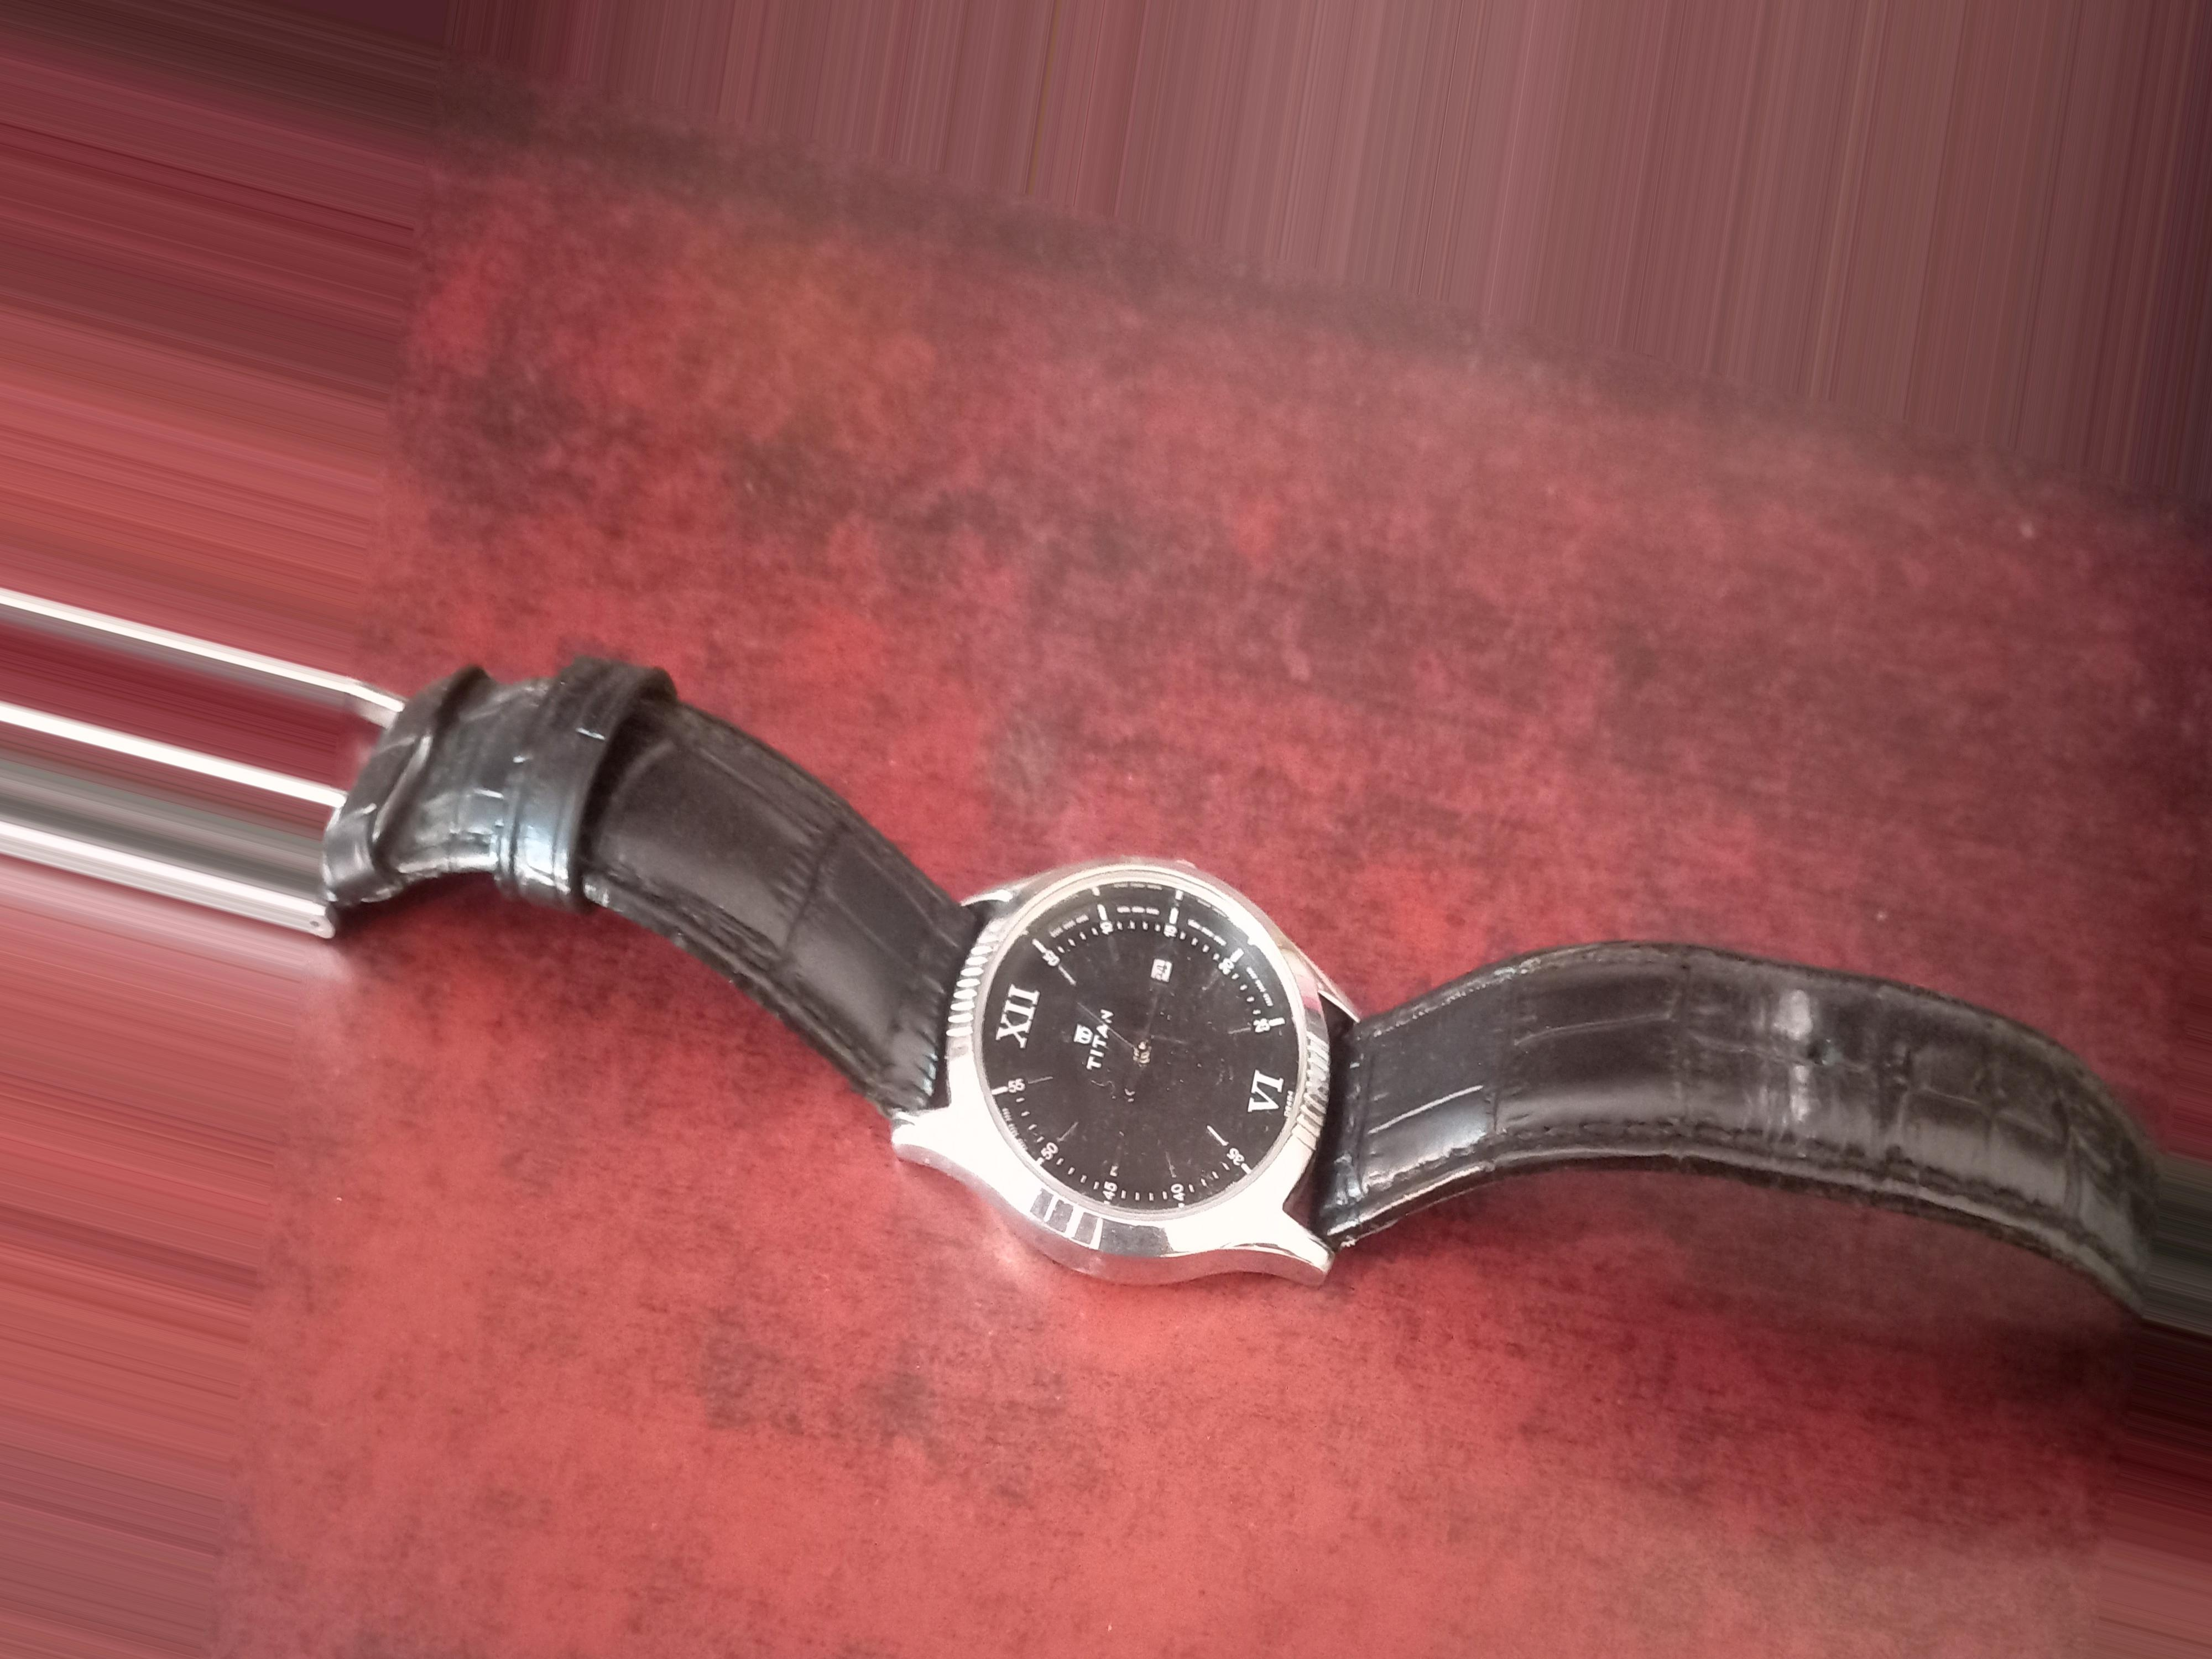watch: (0, 558, 2212, 1387)
